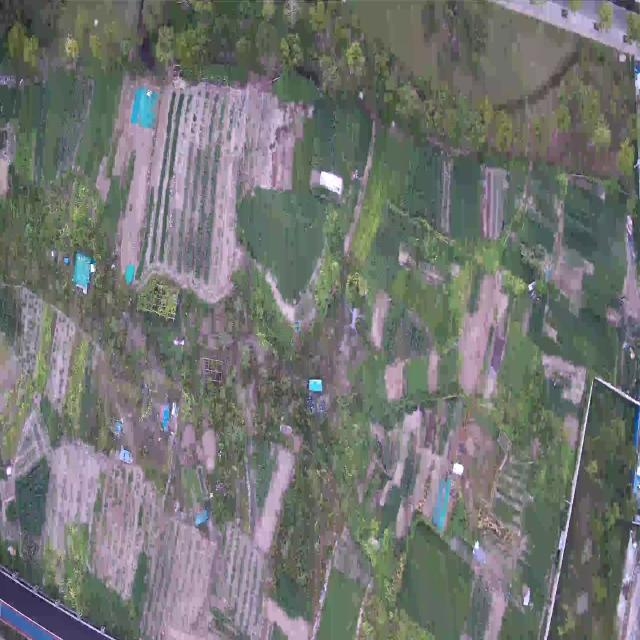UAV: (342, 302, 366, 338)
